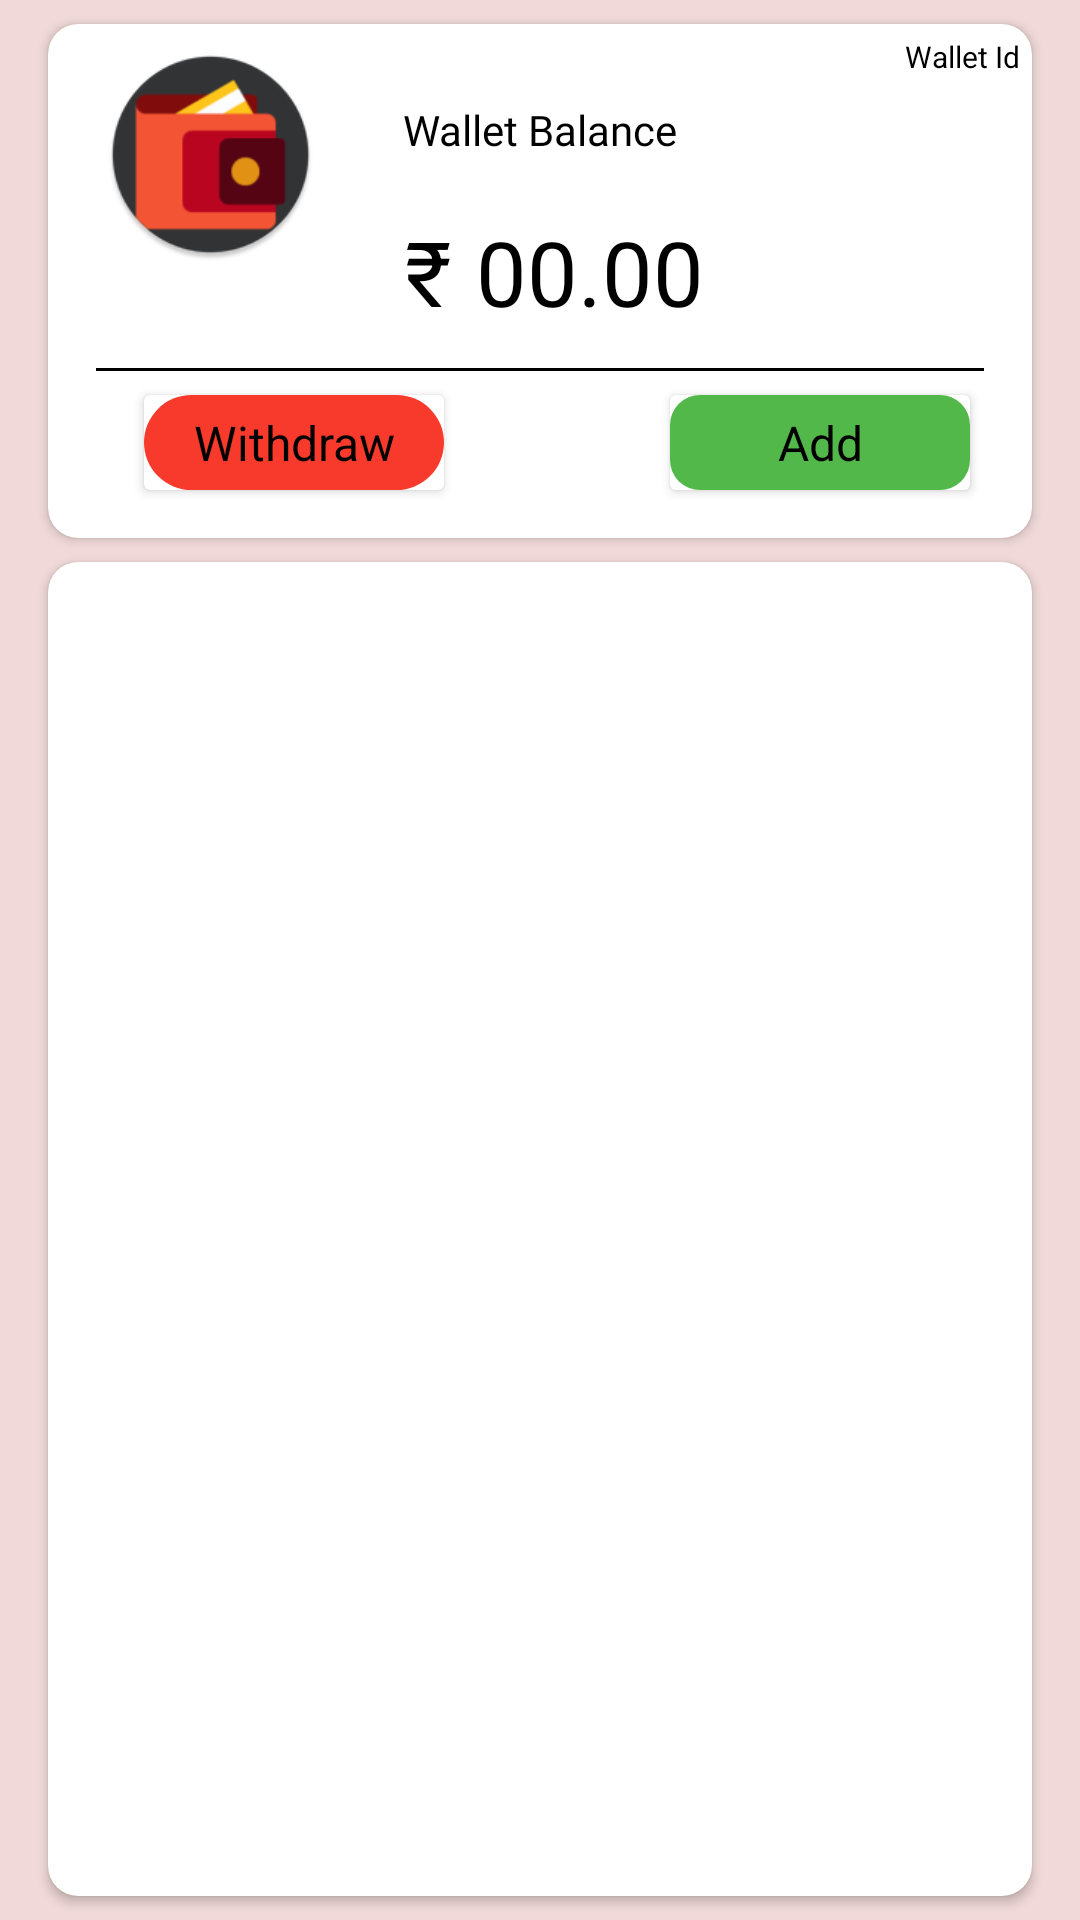

Named icons in this screenshot (1080 x 1920) and their bounding boxes, bbox(x1, y1, x2, y2):
wallet round: bbox(111, 56, 310, 257)
